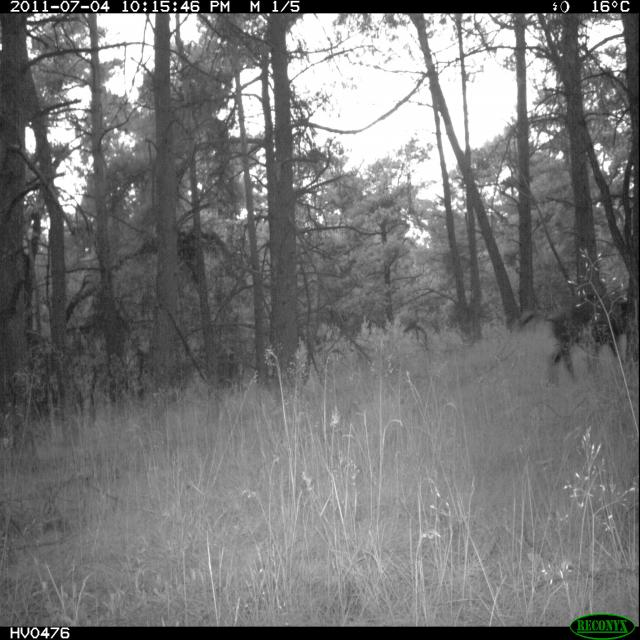boar: (531, 276, 640, 377)
